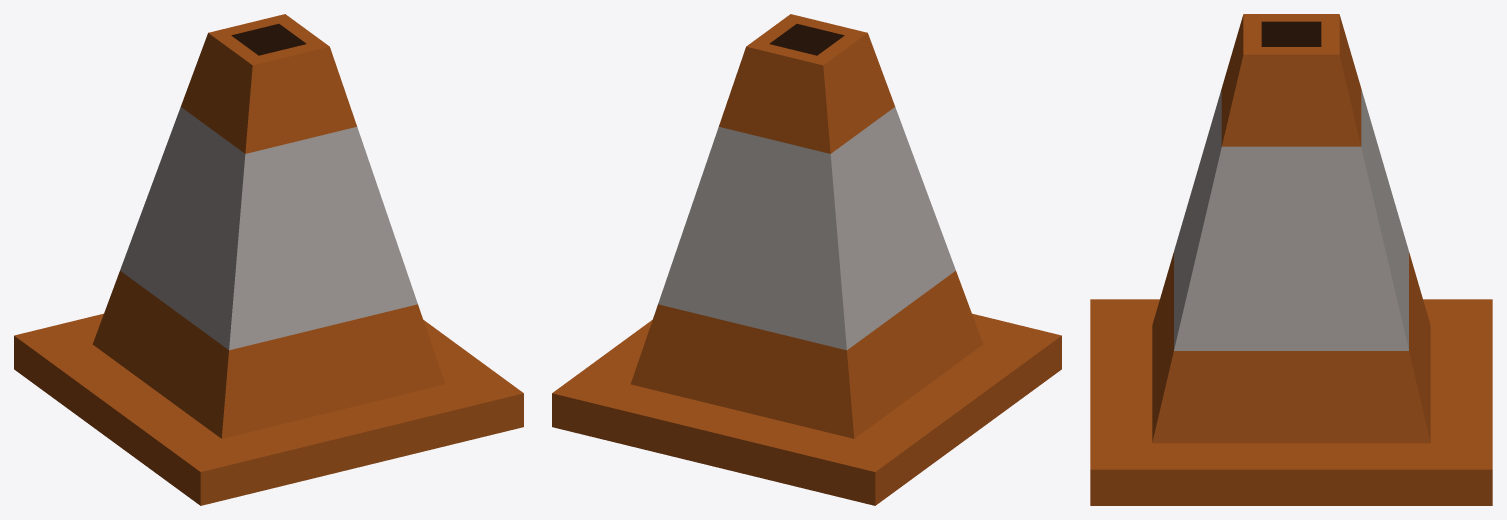
The model's file is RoadCone.fbx.
3 views of the same model, side by side, from view 1: azimuth 30°, elevation 25°; view 2: azimuth 150°, elevation 25°; view 3: azimuth 270°, elevation 25° (orthographic). The views are drawn at different scales.
Visible parts, largest first — view 1: RoadCone; view 2: RoadCone; view 3: RoadCone.
Boxes of the visible parts, x1,y1,x2,y2 form: RoadCone: (14, 14, 523, 505); RoadCone: (552, 14, 1061, 505); RoadCone: (1090, 14, 1492, 505).
Size of the model in its own units: 0.3719 by 0.3941 by 0.3719.
